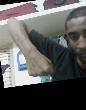hand: (22, 50, 54, 77)
